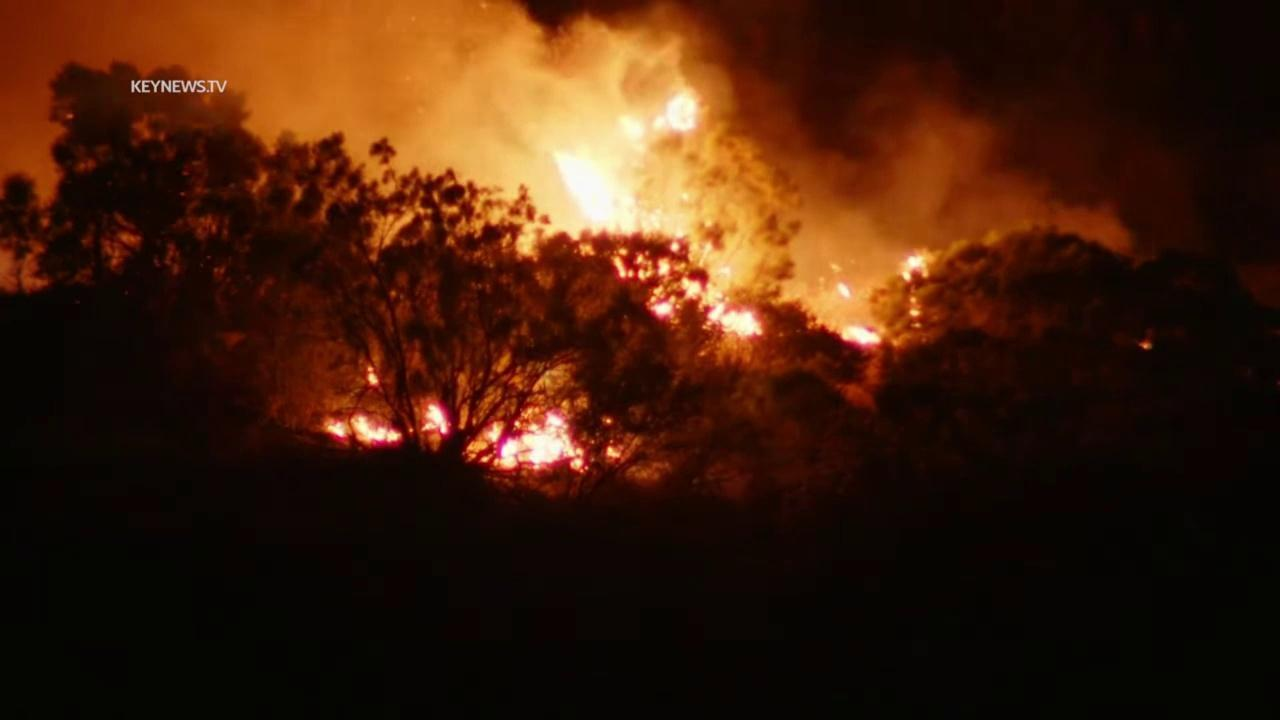fire: (550, 88, 765, 340), (484, 407, 590, 475), (325, 411, 404, 450), (899, 252, 932, 332), (419, 401, 453, 438), (838, 324, 884, 346), (604, 438, 626, 462), (364, 366, 382, 388), (835, 282, 853, 302), (1136, 340, 1153, 350)
smoke: (0, 0, 1280, 328)
